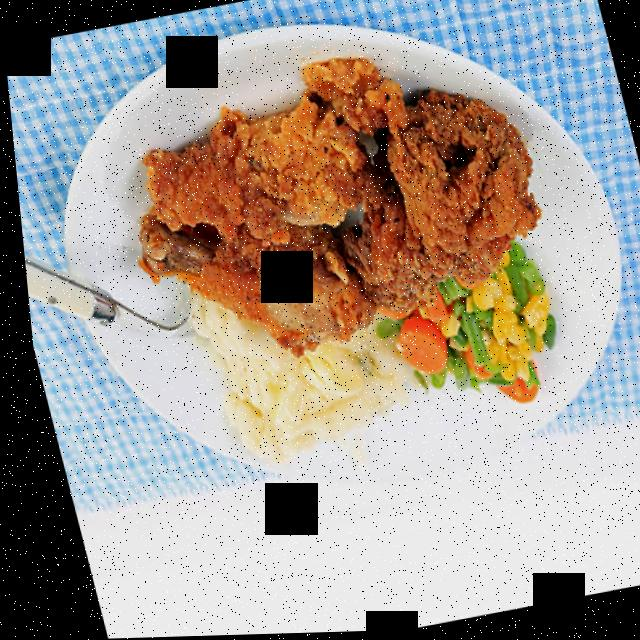Frango: (90, 26, 570, 394)
